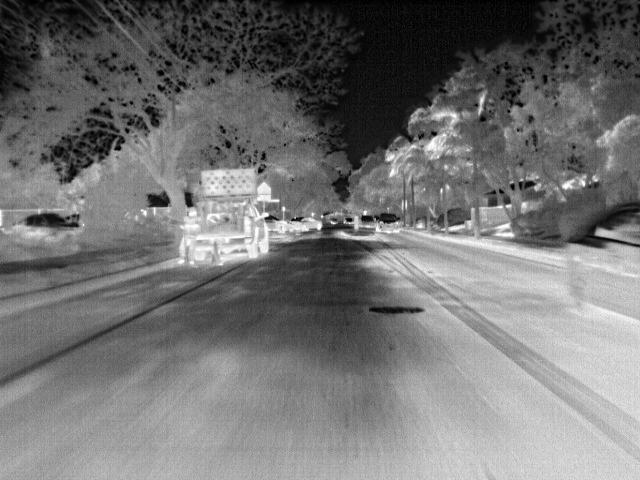car: (188, 167, 272, 262), (12, 212, 84, 231), (291, 214, 323, 232), (375, 212, 401, 233), (263, 216, 291, 232), (360, 214, 375, 228), (343, 216, 355, 225), (329, 217, 339, 227)
person: (180, 211, 202, 266)
